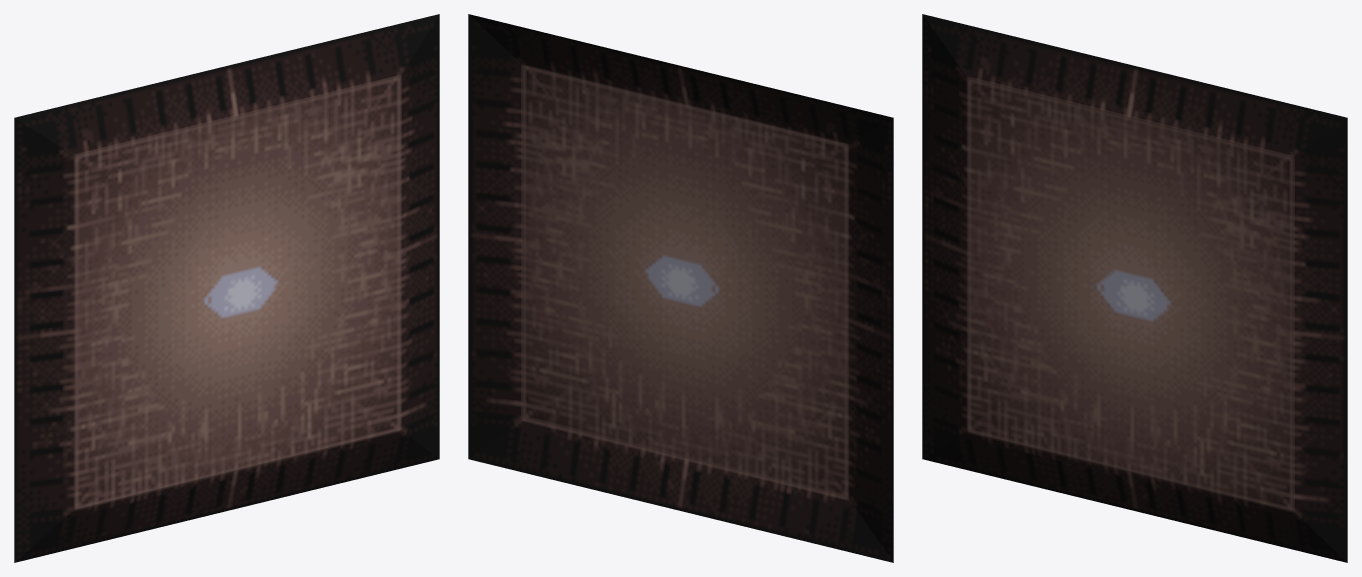
The model's file is eng2_2d.fbx.
3 views of the same model, side by side, from view 1: azimuth 30°, elevation 25°; view 2: azimuth 150°, elevation 25°; view 3: azimuth 330°, elevation 25° (orthographic).
Visible parts, largest first — view 1: eng2_2d_mesh; view 2: eng2_2d_mesh; view 3: eng2_2d_mesh.
Part boxes in pixels (x1,y1,x2,y2): eng2_2d_mesh: [14, 14, 439, 562]; eng2_2d_mesh: [468, 14, 893, 562]; eng2_2d_mesh: [922, 14, 1347, 562].
Size of the model in its own units: 256 by 256 by 8.
